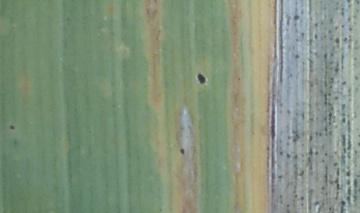tarspot: (196, 72, 207, 84), (177, 146, 186, 156), (332, 35, 341, 44), (291, 13, 301, 21), (9, 123, 17, 131), (340, 200, 346, 207)
